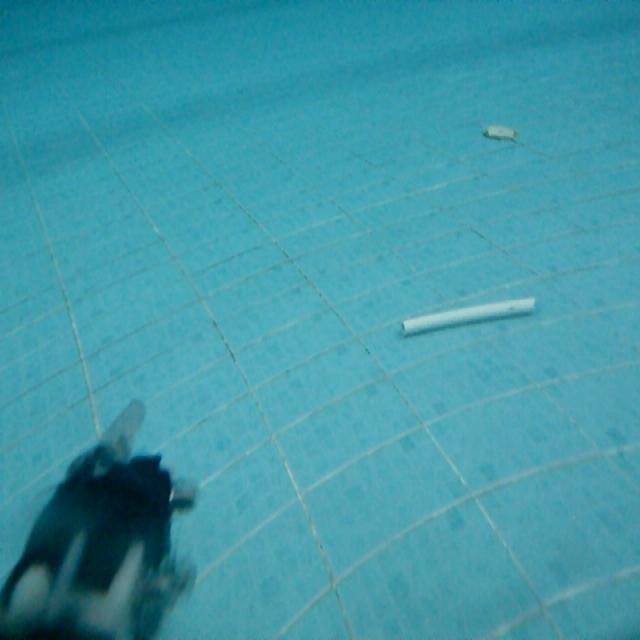Cube: (397, 290, 538, 338)
